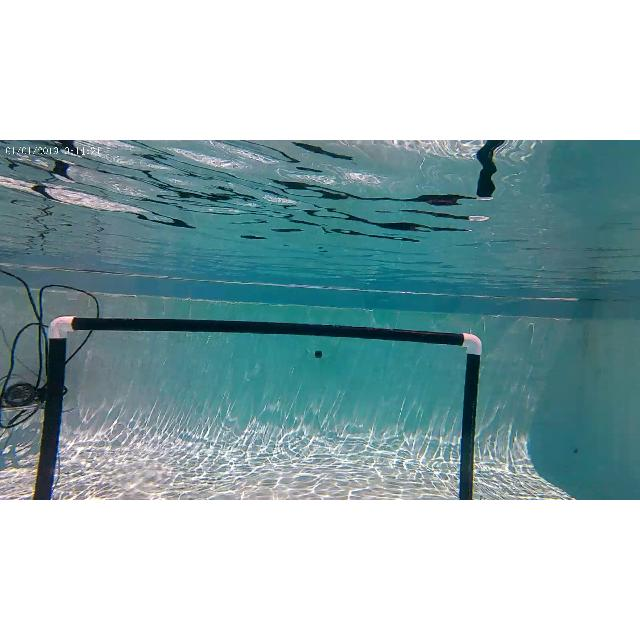prequal gate: (34, 316, 482, 500)
prequal gate leg l: (31, 312, 77, 500)
prequal gate leg r: (449, 314, 485, 500)
